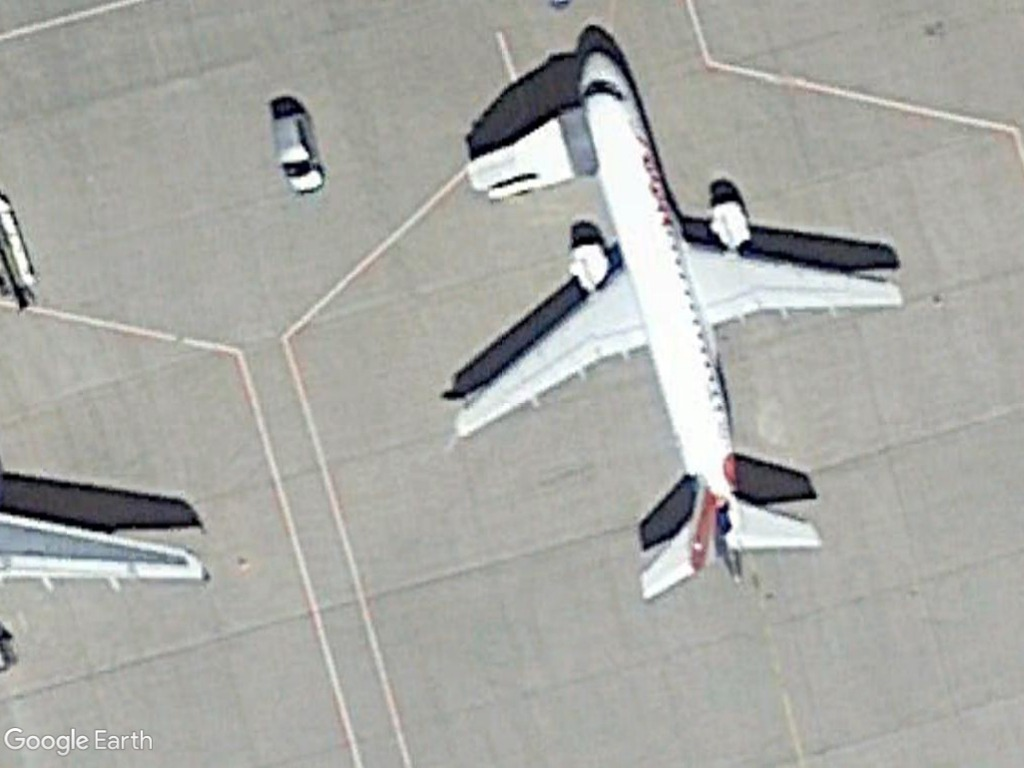airliner: (434, 46, 908, 605)
van: (266, 108, 325, 199)
